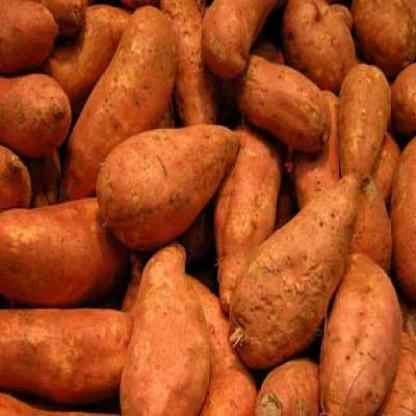---: (229, 164, 368, 366), (91, 122, 240, 256), (112, 238, 214, 416), (225, 42, 334, 160)
